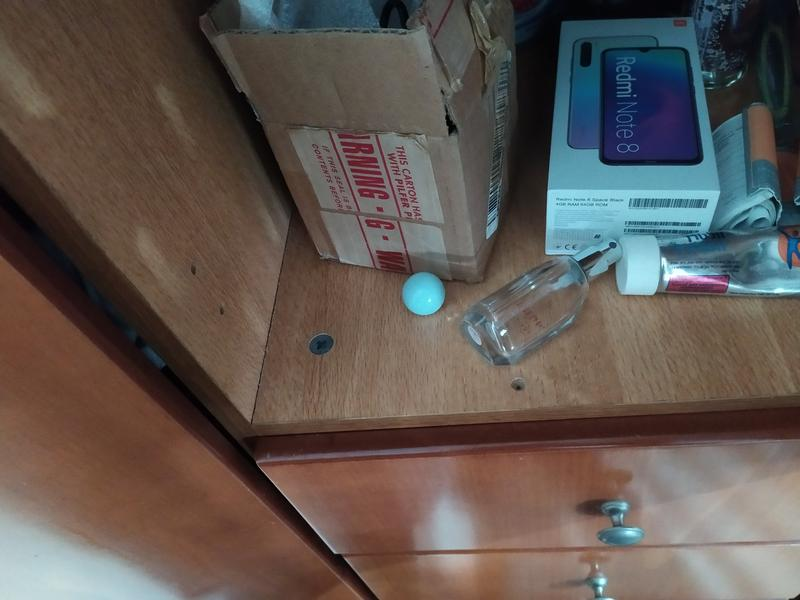Warning: (399, 270, 448, 318)
